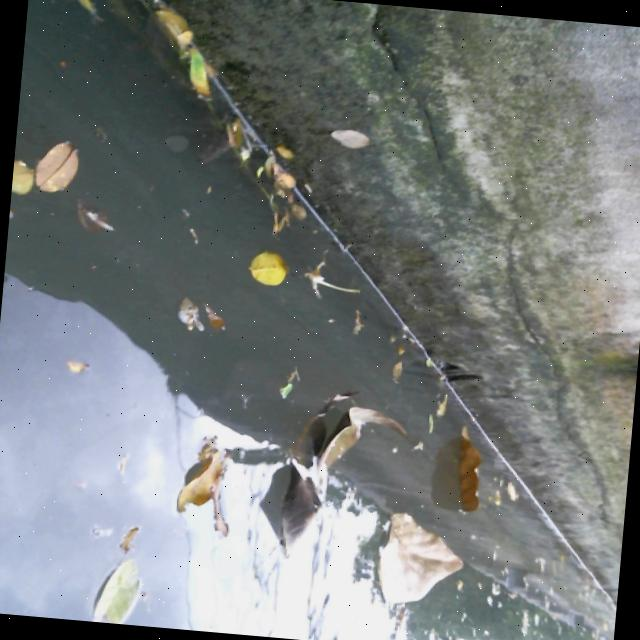Big-leaf: (264, 386, 415, 569), (152, 421, 243, 542), (369, 509, 479, 604), (443, 422, 488, 508)
Small-leaf: (80, 551, 154, 626), (212, 225, 292, 293), (31, 130, 82, 195), (171, 43, 219, 107), (143, 4, 203, 55), (153, 283, 211, 332), (193, 294, 246, 336), (9, 151, 37, 200), (384, 351, 408, 385)
